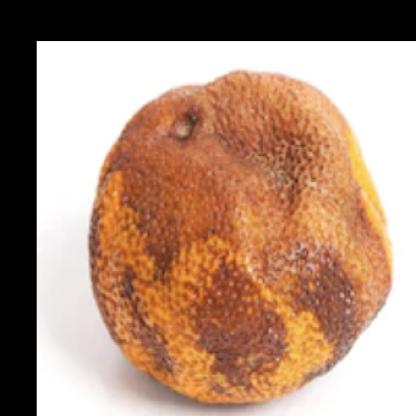rotten: (89, 75, 394, 410)
